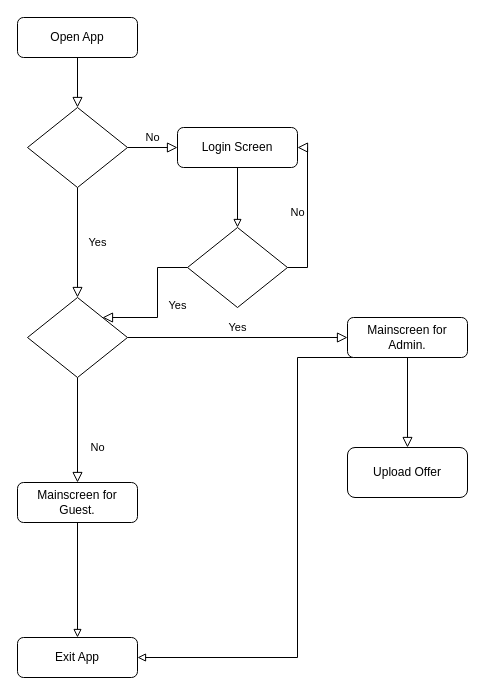
Some shapes in this 485 by 695 pixel diagram are drawn without their labels. Each missing label, with the centre of its shape:
"Is Admin Account?" goes at pixel 77 337.
"Is Login?" goes at pixel 77 147.
"Is Success?" goes at pixel 237 267.
